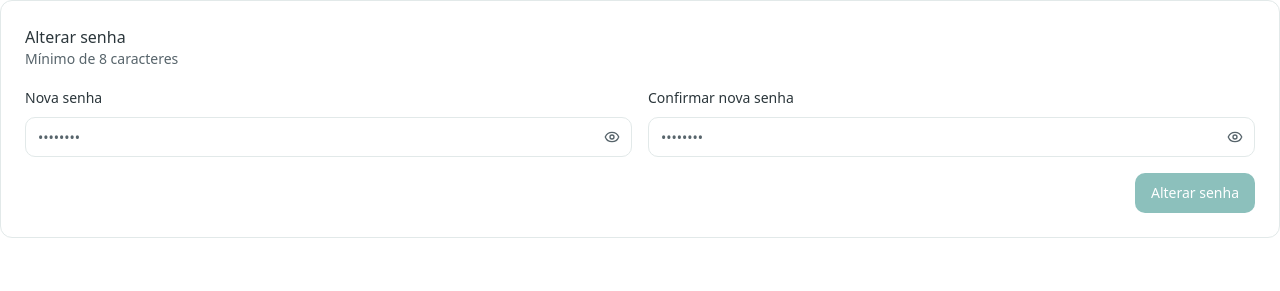
Test: ChangePasswordCard › menos de 8 caracteres não chega ao Auth
Type "curta12" into the password field labelled "Nova senha" at point(328, 137), box [25,117,632,157]
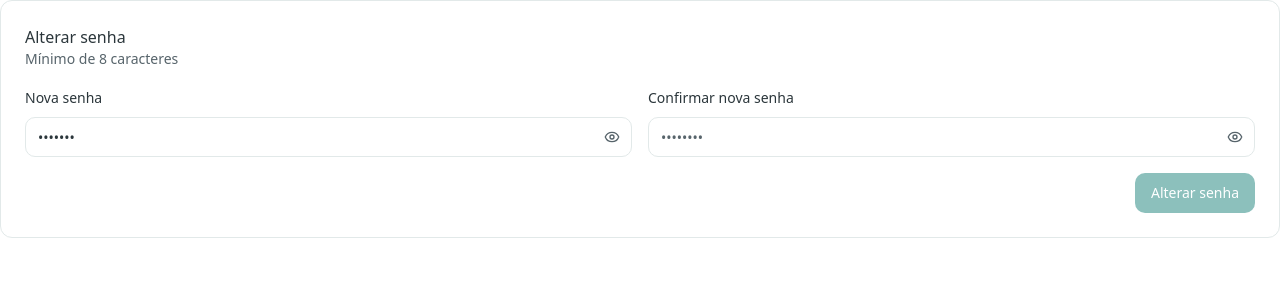
Type "curta12" into the password field labelled "Confirmar nova senha" at point(952, 137), box [648,117,1255,157]
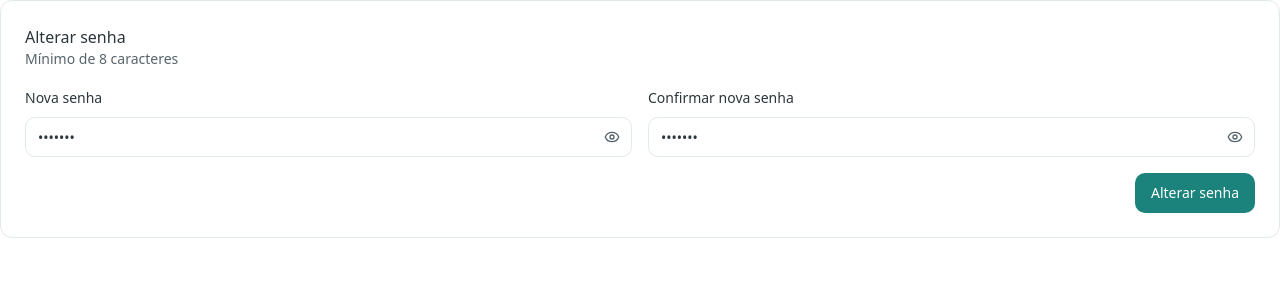
Click the button "Alterar senha" at point(1195, 193), box [1135,173,1255,213]
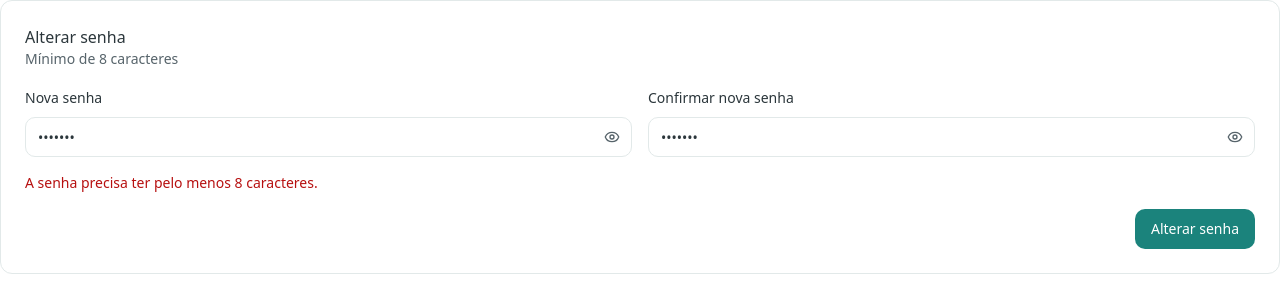
Check: the text "A senha precisa ter pelo menos 8 caracteres." is shown, box [25,173,318,192]
